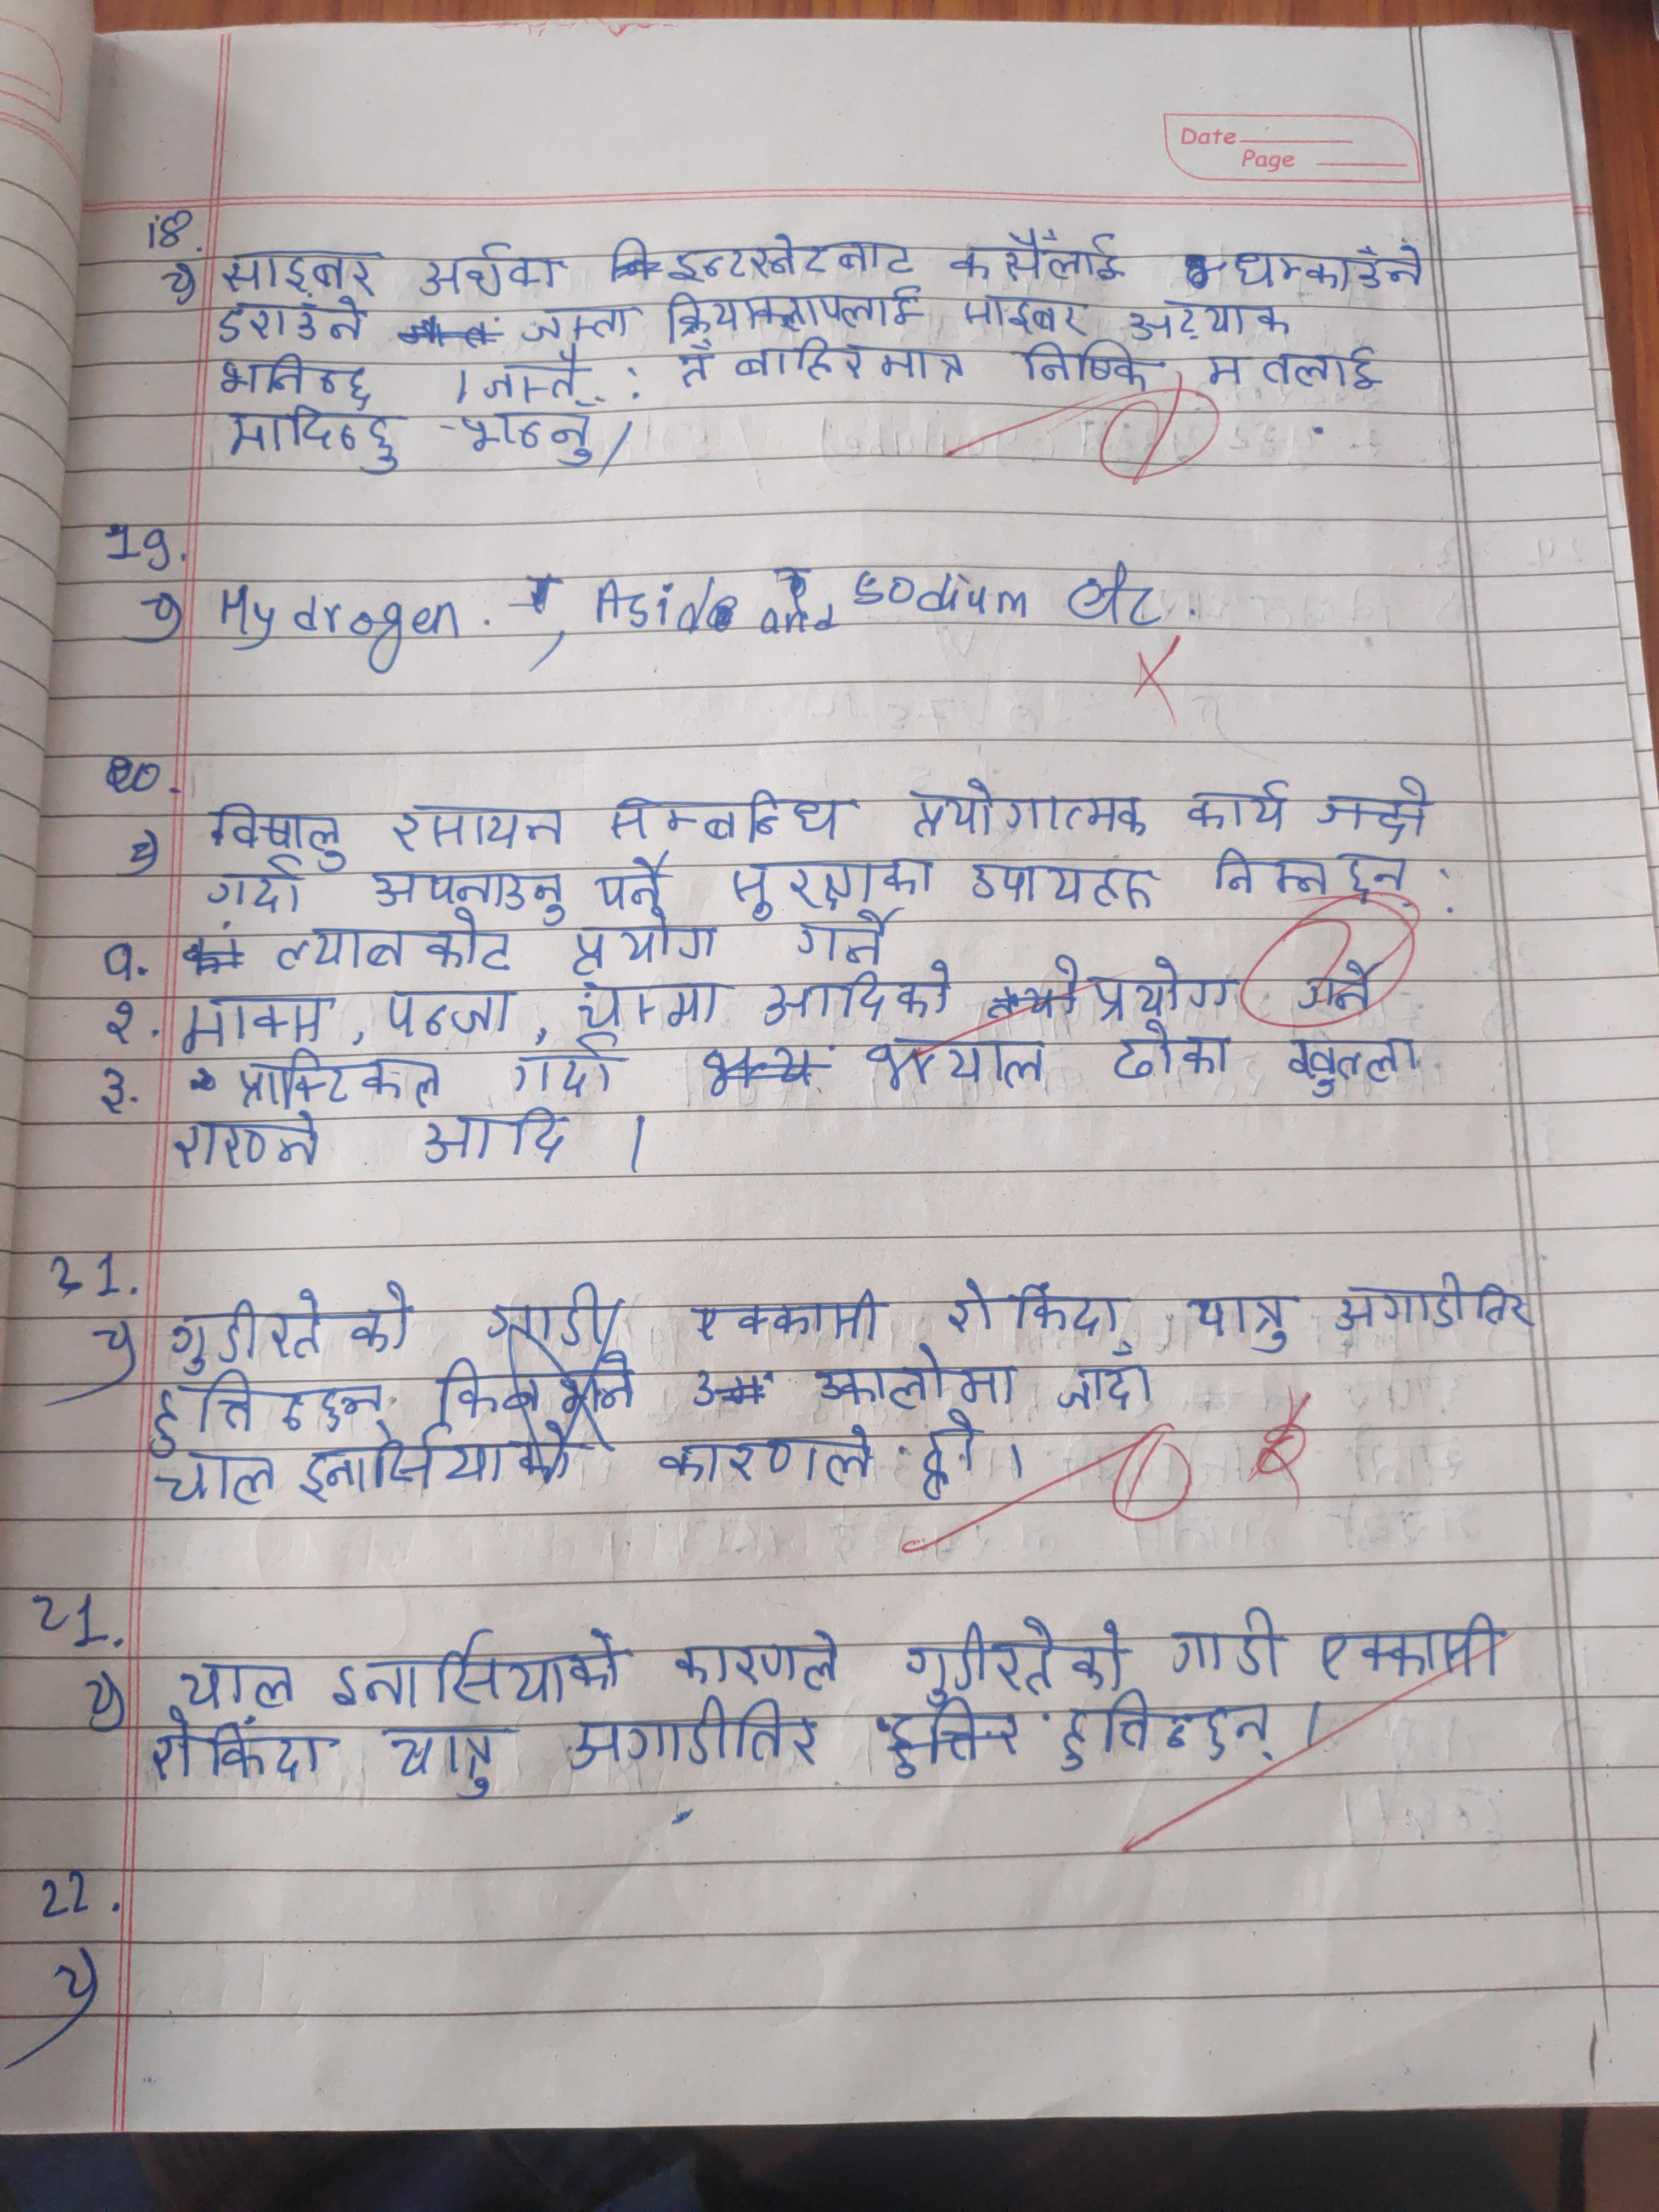text: (331, 1629, 624, 1717), (159, 1280, 415, 1371), (563, 1695, 831, 1778), (1056, 1688, 1283, 1778), (901, 1613, 1127, 1702), (141, 1369, 389, 1444), (894, 773, 1150, 845), (296, 1437, 584, 1500), (277, 904, 519, 977), (786, 1348, 1021, 1414), (652, 1423, 880, 1491), (606, 784, 852, 845), (145, 1712, 329, 1792), (223, 397, 404, 477), (755, 961, 962, 1029), (425, 1357, 638, 1423), (941, 1273, 1138, 1345), (1312, 1613, 1509, 1684), (660, 284, 929, 336), (230, 1045, 444, 1109), (664, 232, 917, 286), (723, 853, 934, 918), (735, 329, 971, 387), (674, 1623, 854, 1696), (958, 852, 1154, 916), (371, 867, 572, 927), (688, 1287, 882, 1348), (1087, 949, 1239, 1024), (1230, 239, 1438, 293), (1121, 284, 1300, 345), (1279, 1024, 1422, 1099), (209, 345, 375, 409), (373, 1721, 509, 1799), (866, 1036, 1056, 1092), (950, 230, 1129, 287), (174, 1109, 329, 1176), (390, 798, 568, 855), (416, 1109, 580, 1170), (1330, 1271, 1474, 1339), (220, 791, 350, 866), (1169, 1602, 1286, 1686), (174, 991, 326, 1052), (565, 918, 723, 975), (1105, 1021, 1241, 1087), (211, 247, 382, 298), (561, 977, 730, 1028), (413, 242, 561, 300), (211, 293, 371, 345), (153, 1446, 279, 1512), (1187, 1287, 1298, 1360), (477, 1287, 613, 1346), (369, 984, 518, 1038), (1016, 340, 1162, 394), (1202, 845, 1333, 904), (957, 287, 1098, 341), (474, 341, 589, 408), (1183, 775, 1295, 840), (202, 855, 310, 921), (514, 1031, 620, 1097), (462, 416, 599, 467), (1049, 1350, 1162, 1411), (786, 907, 896, 970), (1260, 345, 1384, 397), (1293, 958, 1389, 1024), (179, 1660, 303, 1710), (920, 1411, 983, 1501), (518, 298, 638, 345), (1344, 843, 1422, 907), (592, 853, 669, 916), (1473, 1280, 1544, 1336), (673, 333, 720, 387), (1202, 348, 1246, 390)
